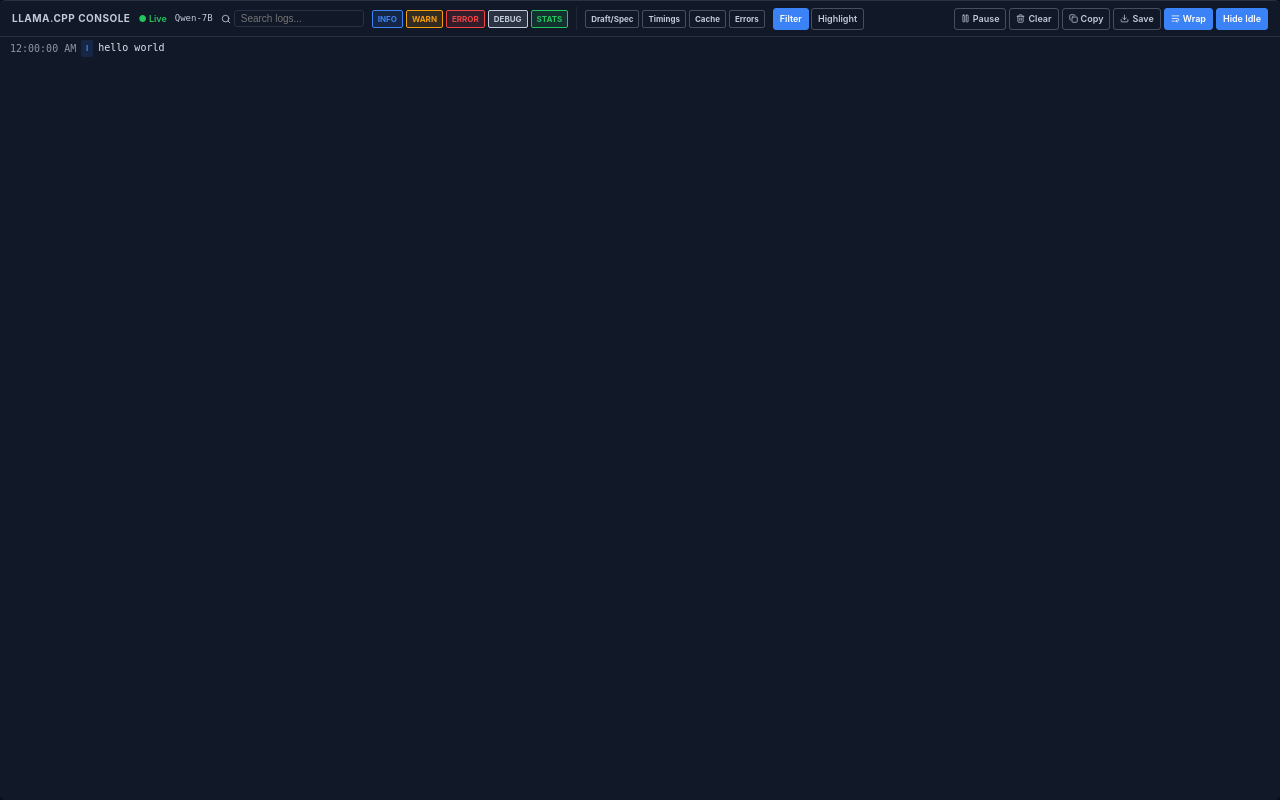
LogConsole search and filter mode › shows 'No matching log lines.' in console-empty-state when search has no results
Expected: the text "hello world" is shown, [98, 42, 164, 53]
Type "xyznotfound" into the search field labelled "Search logs". click: coordinates (299, 18)
box: [234, 10, 364, 27]
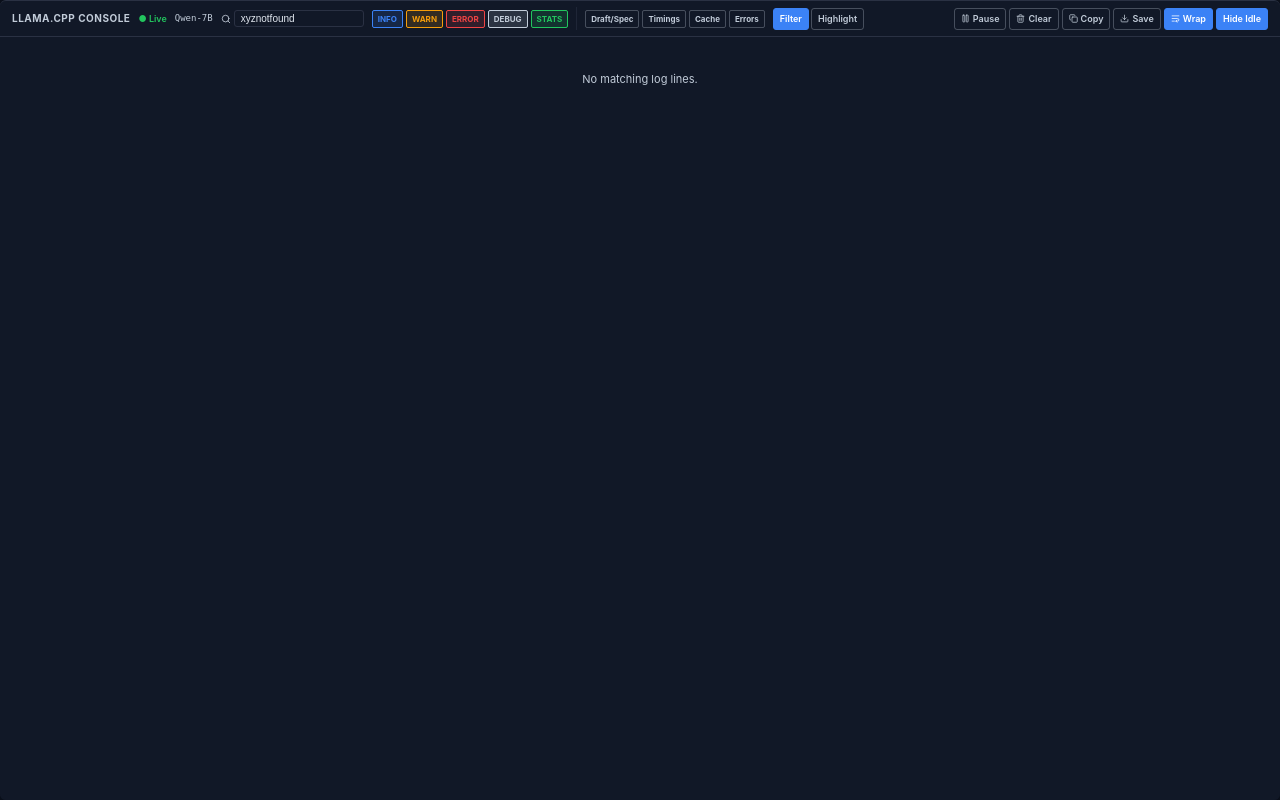
Expected: the element with test id "console-empty-state" reads "No matching log lines.", [582, 72, 698, 86]
